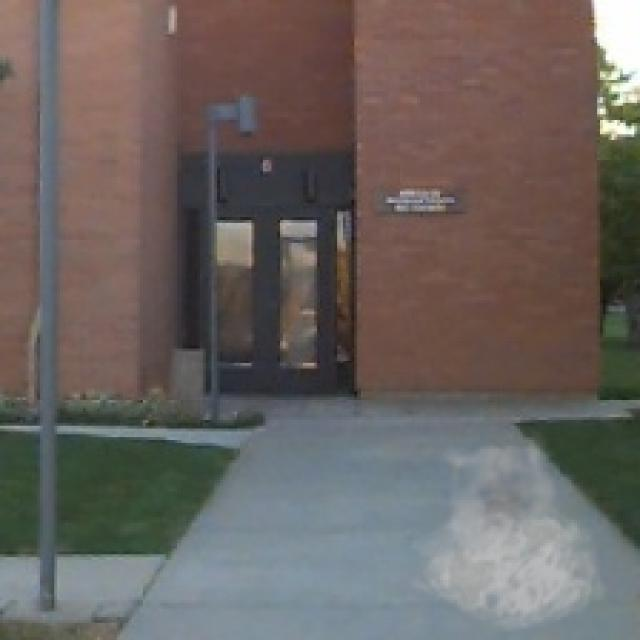Smoke: (406, 428, 608, 634)
